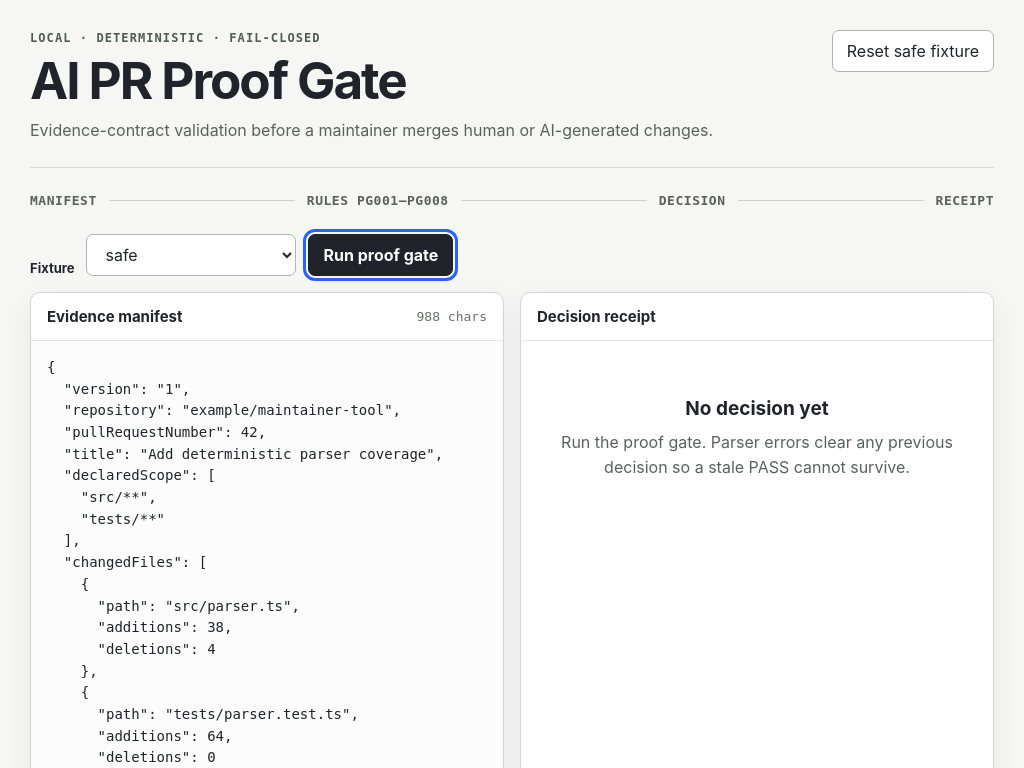
Scenario: AI PR Proof Gate UI › A1 completes the keyboard-addressable evaluation journey
Click the button "Run proof gate" at (381, 255), box [308, 234, 453, 276]
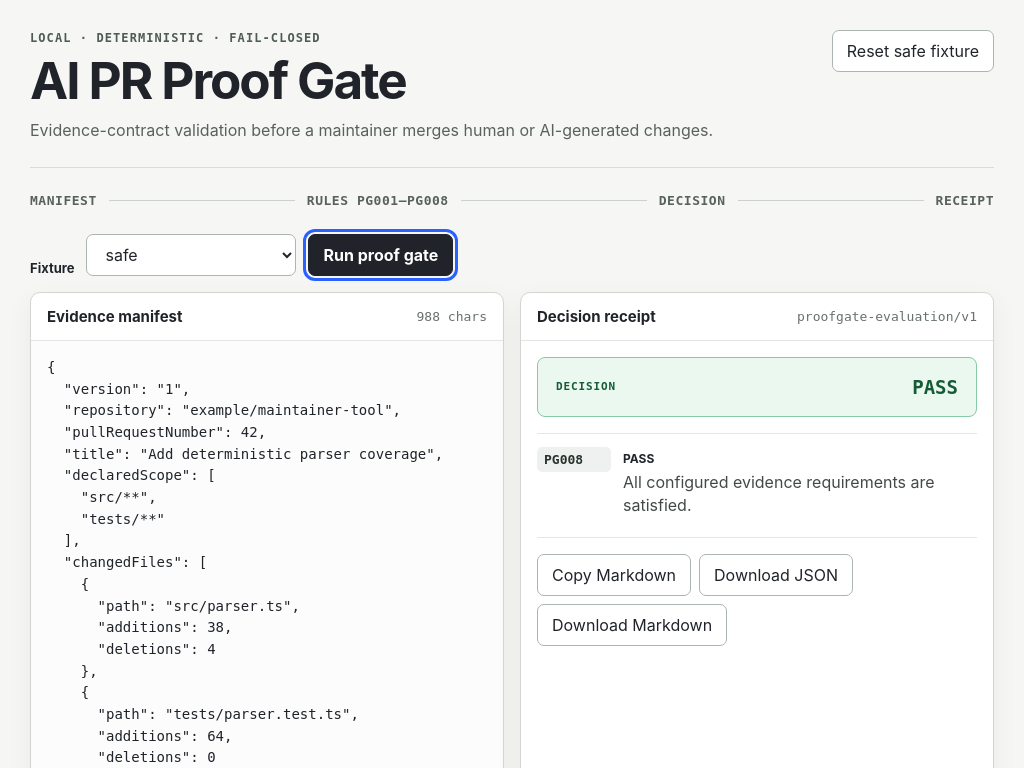
Result: the element with test id "decision" shows "PASS" at [912, 376, 958, 398]
Result: the text "PG008" is shown at [537, 447, 611, 472]
